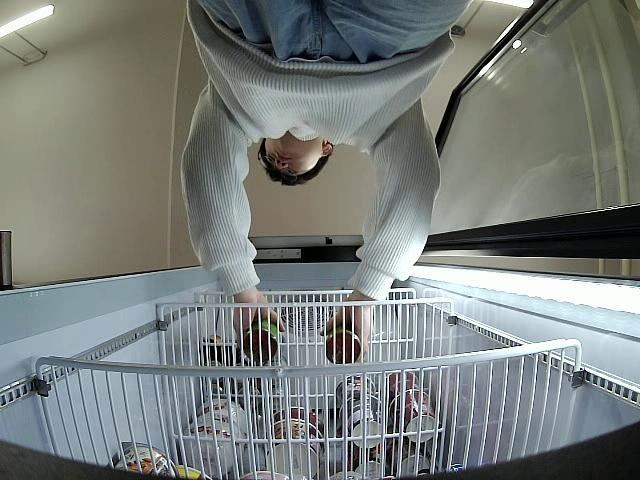19_17cha: (242, 320, 280, 363), (326, 325, 358, 364)
